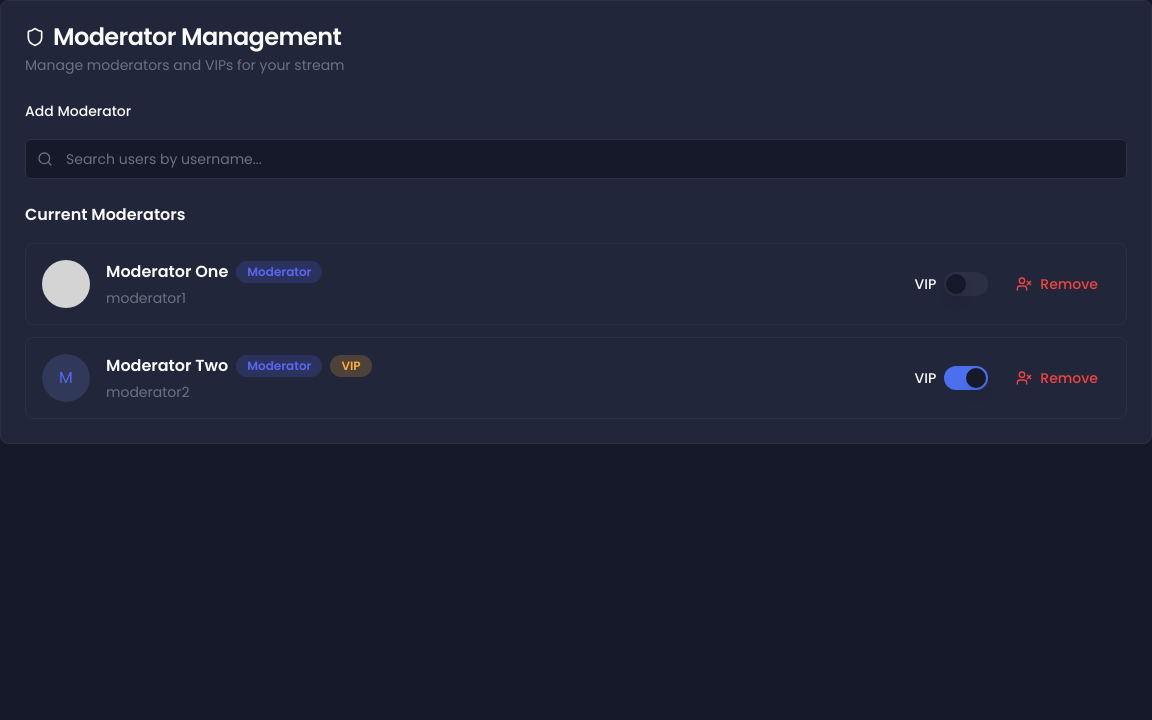
Test: ModeratorManagement Component › Add New Moderator › should display search results when typing username
Type "new" into the field with placeholder "Search users by username..." at (576,159), box [25,139,1127,179]
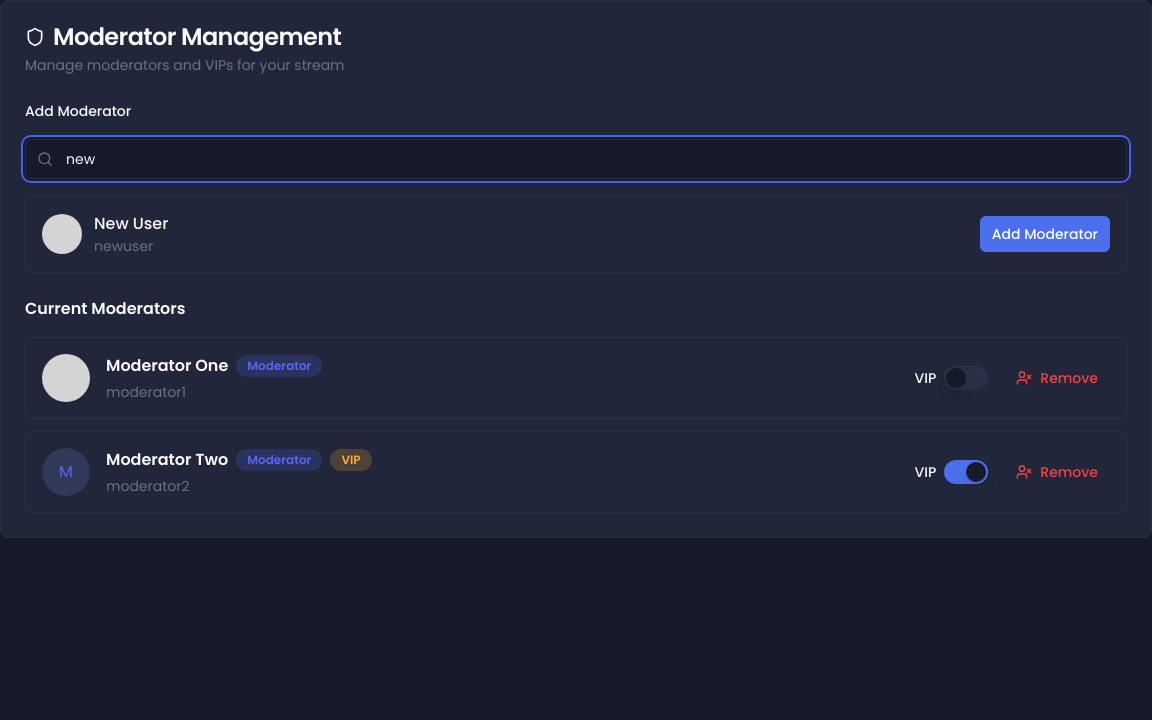
Expected: the text "New User" is shown, [94,212,168,235]
Expected: the text "newuser" is shown, [94,236,153,256]
